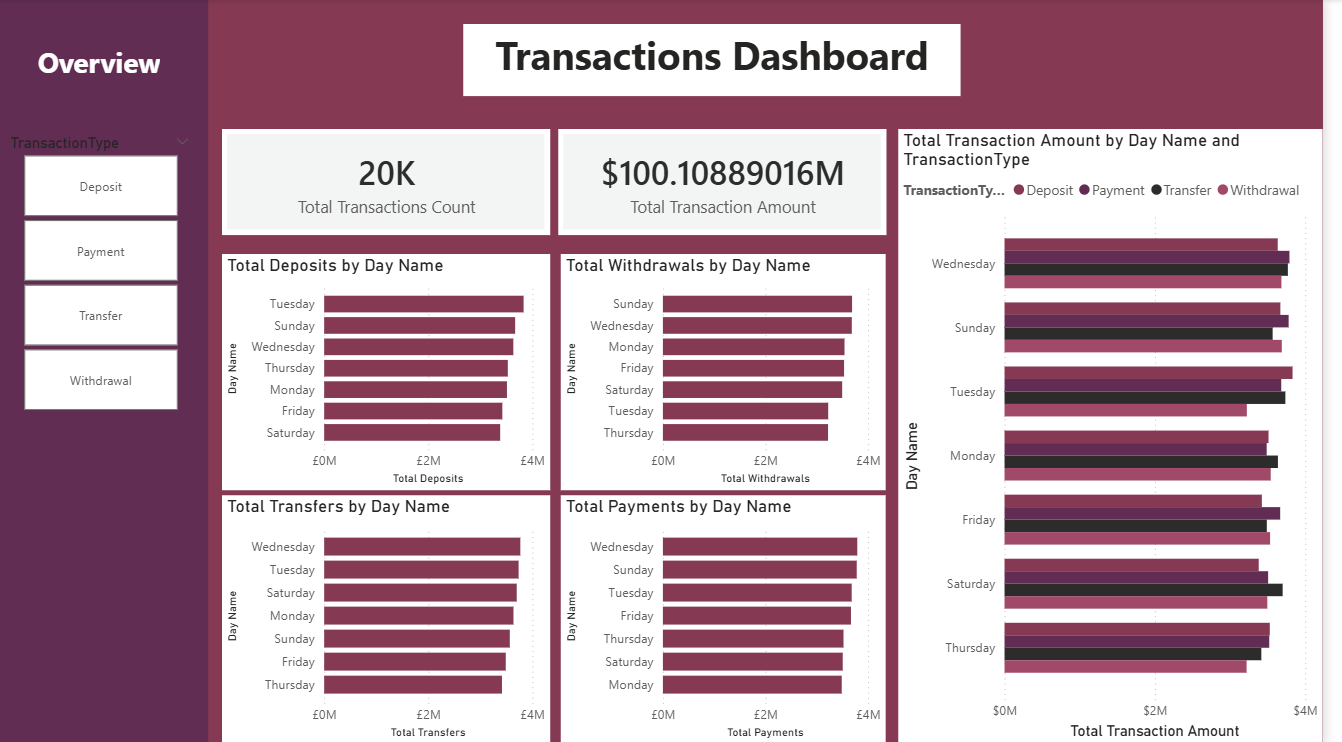

The dashboard page shown, as its layout file describes it:
{"tool":"powerbi","page":{"name":"Transactions Dashboard","canvas":[1280,720],"ordinal":4},"visuals":[{"type":"textbox","box":[450,24.1,480.2,70],"z":0},{"type":"cardVisual","fields":{"Data":["_Measures.Total Transactions Count"]},"box":[217.6,125.8,316.7,102.1],"z":1000},{"type":"clusteredBarChart","fields":{"Category":["Banking_Analytics_Transactions_Updated - Banking_Analytics_Transactions_Updated.Day Name"],"Y":["_Measures.Total Withdrawals"]},"box":[544.7,245.7,313.8,227.9],"z":2000},{"type":"clusteredBarChart","fields":{"Category":["Banking_Analytics_Transactions_Updated - Banking_Analytics_Transactions_Updated.Day Name"],"Y":["_Measures.Total Transaction Amount"],"Series":["Banking_Analytics_Transactions_Updated - Banking_Analytics_Transactions_Updated.TransactionType"]},"box":[870.3,125.8,410,593.5],"z":3000},{"type":"clusteredBarChart","fields":{"Category":["Banking_Analytics_Transactions_Updated - Banking_Analytics_Transactions_Updated.Day Name"],"Y":["_Measures.Total Transfers"]},"box":[217.6,479.6,316.7,239.8],"z":4000},{"type":"clusteredBarChart","fields":{"Category":["Banking_Analytics_Transactions_Updated - Banking_Analytics_Transactions_Updated.Day Name"],"Y":["_Measures.Total Deposits"]},"box":[217.6,245.7,316.7,227.9],"z":5000},{"type":"clusteredBarChart","fields":{"Category":["Banking_Analytics_Transactions_Updated - Banking_Analytics_Transactions_Updated.Day Name"],"Y":["_Measures.Total Payments"]},"box":[544.7,479.6,313.8,239.8],"z":6000},{"type":"cardVisual","fields":{"Data":["_Measures.Total Transaction Amount"]},"box":[541.7,125.8,316.7,102.1],"z":7000},{"type":"slicer","fields":{"Values":["Banking_Analytics_Transactions_Updated - Banking_Analytics_Transactions_Updated.TransactionType"]},"box":[0,125.8,198.3,278.3],"z":8000},{"type":"actionButton","box":[13.3,23.7,170.2,72.5],"z":8001}]}

Visuals, with their boxes in screenshot pixels (x1, y1, x2, y2), scaled from the page's 1280x720 canvas onto the 1342x742 screenshot:
textbox: bbox=(472, 25, 975, 97)
cardVisual - _Measures.Total Transactions Count: bbox=(228, 130, 560, 235)
clusteredBarChart - Banking_Analytics_Transactions_Updated - Banking_Analytics_Transactions_Updated.Day Name x _Measures.Total Withdrawals: bbox=(571, 253, 900, 488)
clusteredBarChart - Banking_Analytics_Transactions_Updated - Banking_Analytics_Transactions_Updated.Day Name x _Measures.Total Transaction Amount: bbox=(912, 130, 1341, 741)
clusteredBarChart - Banking_Analytics_Transactions_Updated - Banking_Analytics_Transactions_Updated.Day Name x _Measures.Total Transfers: bbox=(228, 494, 560, 741)
clusteredBarChart - Banking_Analytics_Transactions_Updated - Banking_Analytics_Transactions_Updated.Day Name x _Measures.Total Deposits: bbox=(228, 253, 560, 488)
clusteredBarChart - Banking_Analytics_Transactions_Updated - Banking_Analytics_Transactions_Updated.Day Name x _Measures.Total Payments: bbox=(571, 494, 900, 741)
cardVisual - _Measures.Total Transaction Amount: bbox=(568, 130, 900, 235)
slicer - Banking_Analytics_Transactions_Updated - Banking_Analytics_Transactions_Updated.TransactionType: bbox=(0, 130, 208, 416)
actionButton: bbox=(14, 24, 192, 99)
